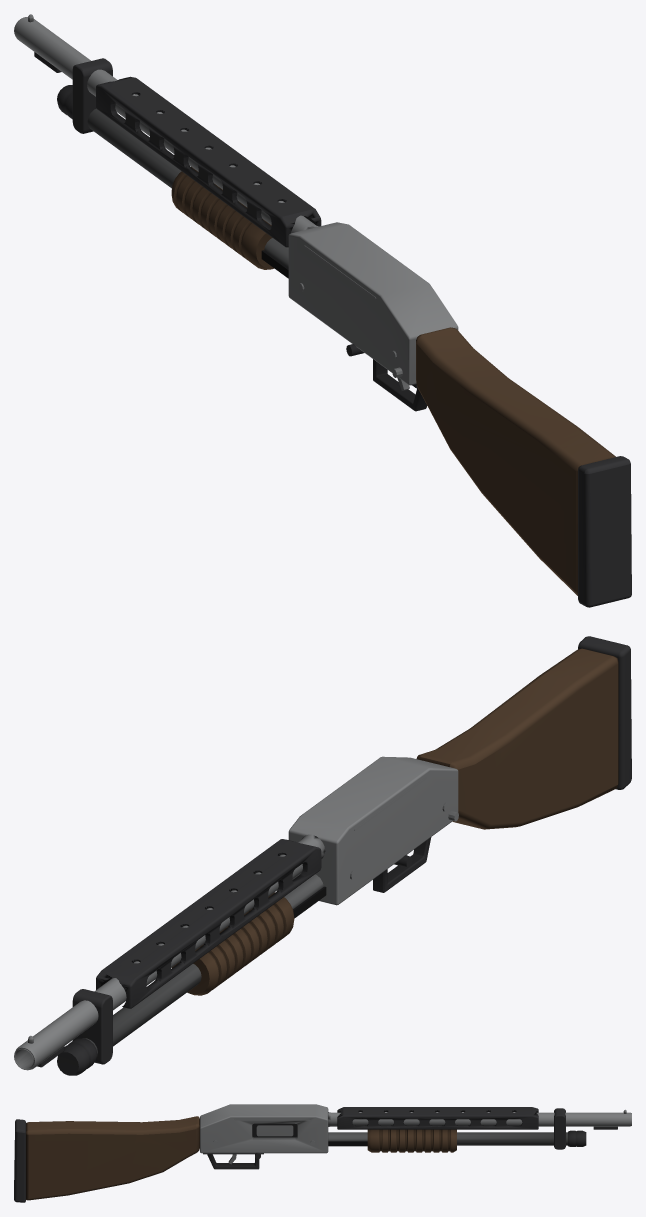
File: shotgun_brenner.glb
The picture shows the model from 3 angles, top to bottom: view 1: azimuth 30°, elevation 25°; view 2: azimuth 150°, elevation 25°; view 3: azimuth 270°, elevation 25°; orthographic projection. The views are drawn at different scales.
Parts seen in each view (by area): view 1: Receiver, Bolt; view 2: Receiver, Bolt; view 3: Receiver, Bolt.
Part boxes in pixels (x1=…): Receiver: x1=14, y1=14, x2=631, y2=607; Bolt: x1=171, y1=166, x2=288, y2=278; Receiver: x1=14, y1=636, x2=631, y2=1075; Bolt: x1=171, y1=886, x2=326, y2=995; Receiver: x1=14, y1=1104, x2=631, y2=1202; Bolt: x1=328, y1=1129, x2=456, y2=1152.
Size of the model in its own units: 0.061 by 0.1586 by 1.01.
